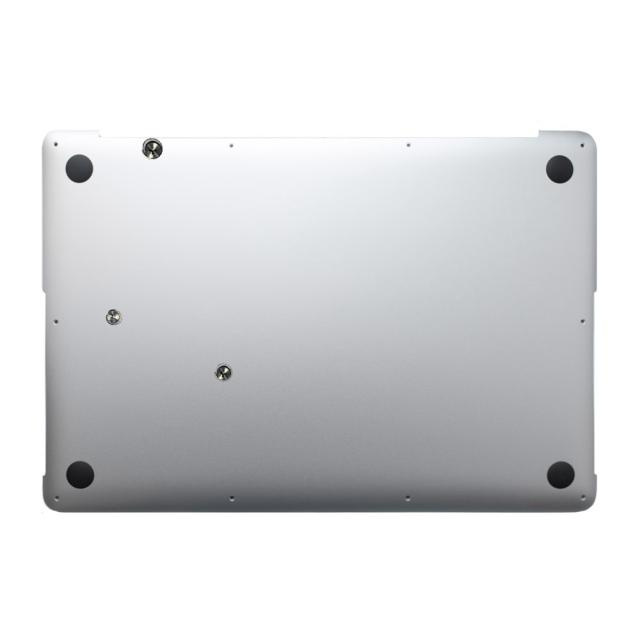lock: (141, 138, 163, 159), (214, 363, 232, 381), (106, 308, 122, 325)
